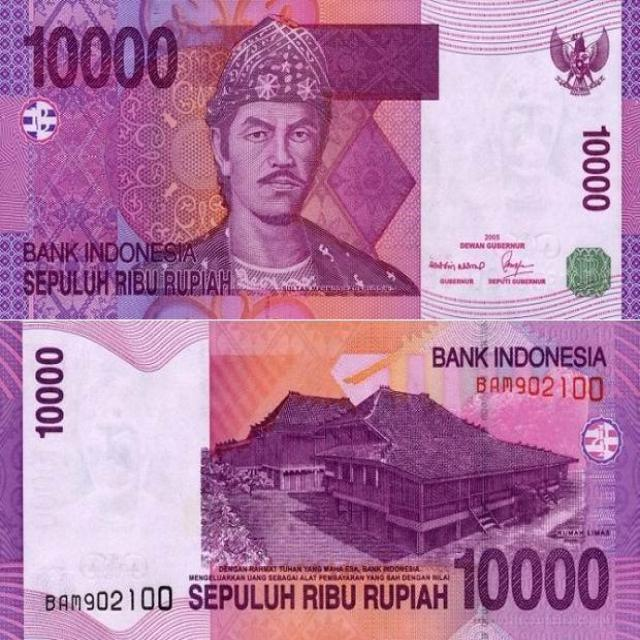sepuluh ribu rupiah: (0, 318, 640, 639), (0, 0, 640, 318), (270, 383, 500, 529), (210, 29, 316, 218), (436, 546, 620, 614), (12, 24, 186, 94)
